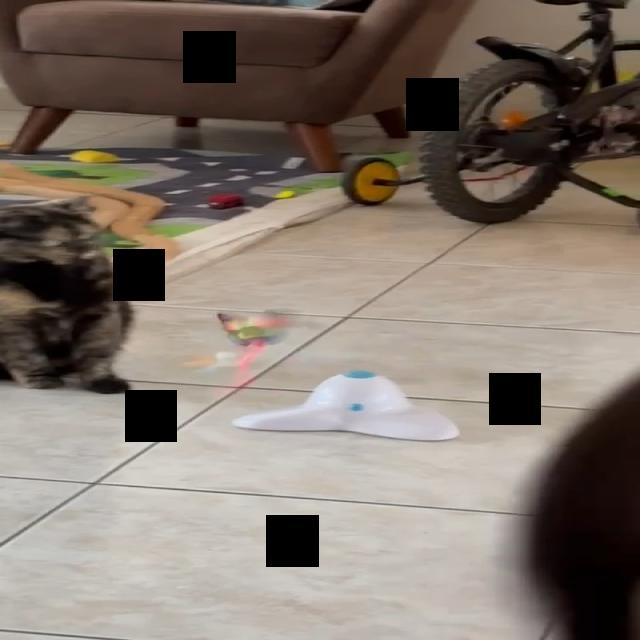authorized: (0, 194, 135, 394)
